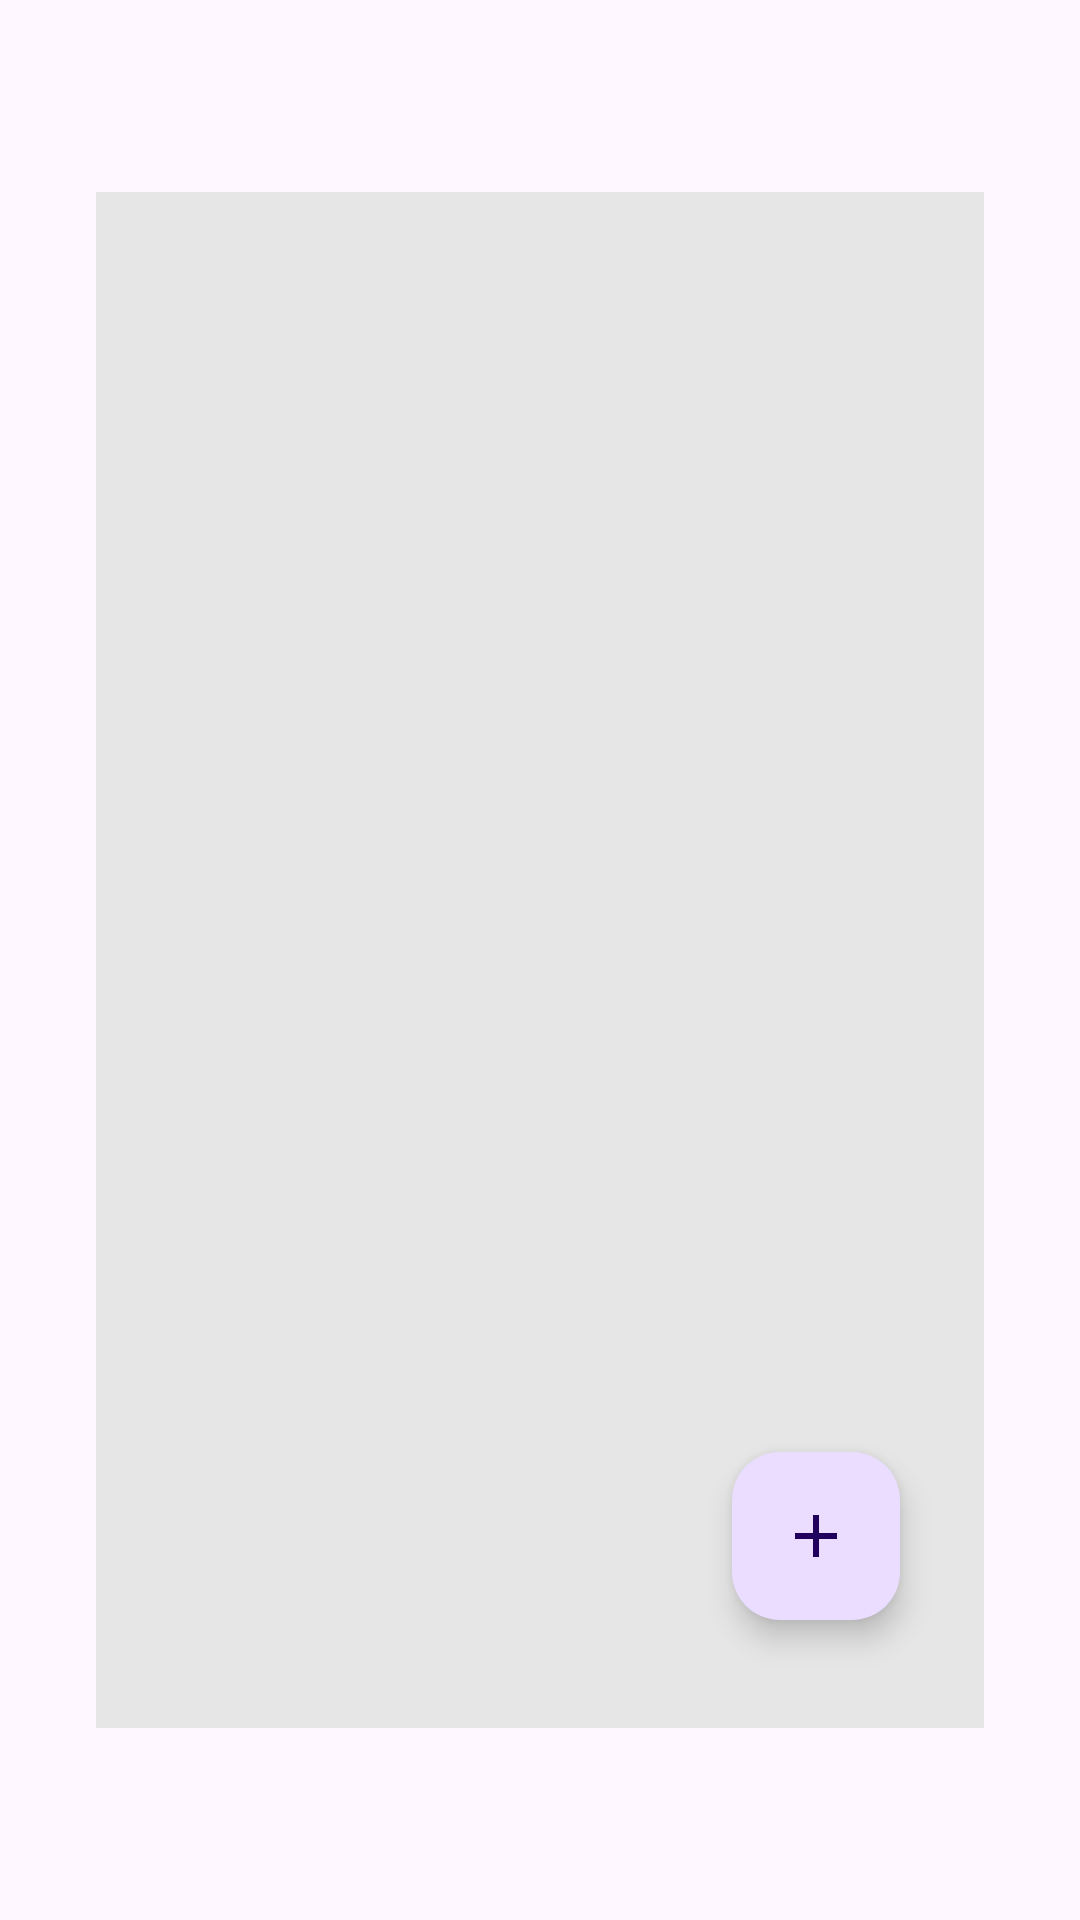

Icon click points for this 1080x1920 phone screenshot, format [x,y]:
boton para añadir una lista: [816,1536]
